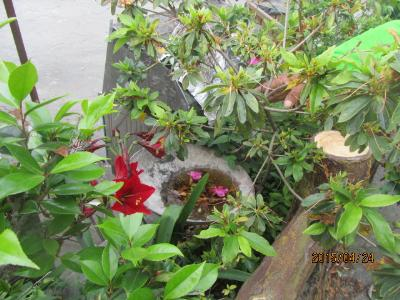bowl: (130, 138, 259, 225)
